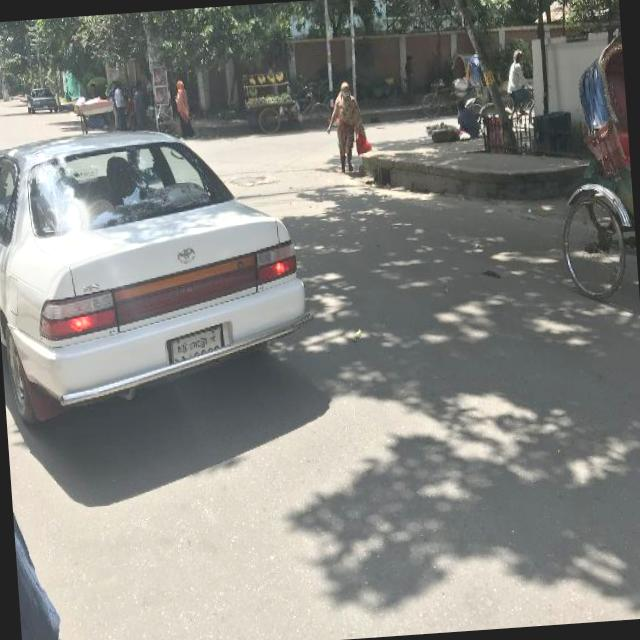car: (0, 123, 324, 422), (24, 84, 59, 112)
motorcycle: (548, 34, 638, 300), (460, 49, 538, 136), (412, 48, 478, 134)
